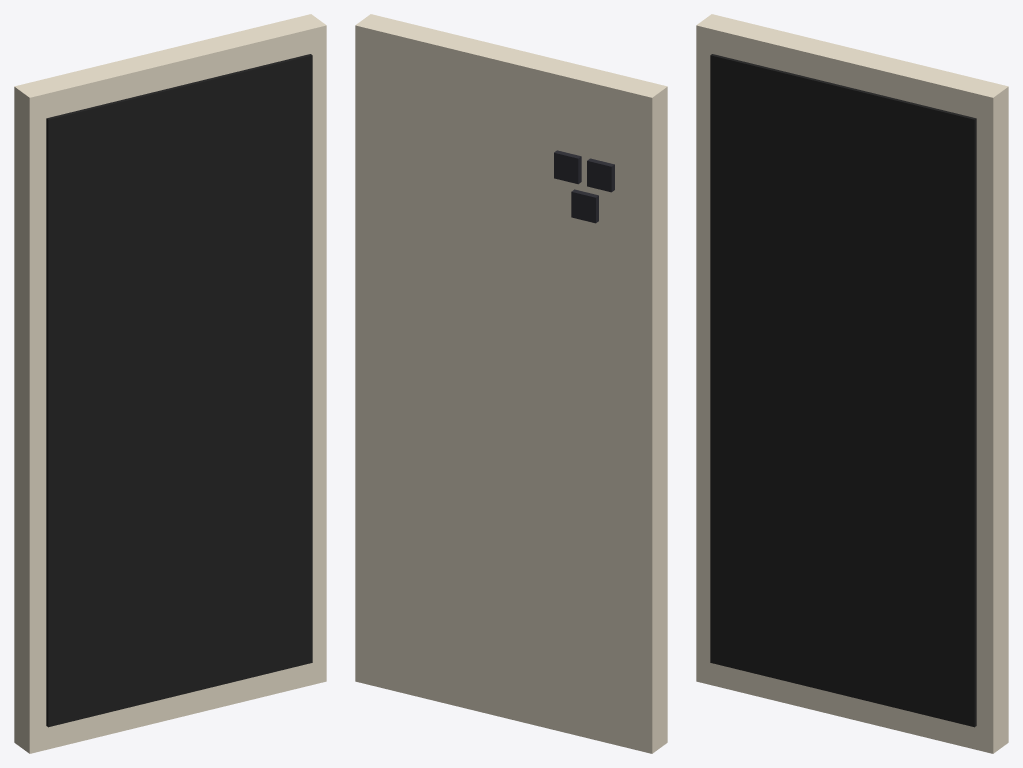
File: iphone-11-pro-max.glb
3 renders of one model, left to right at view 1: azimuth 30°, elevation 25°; view 2: azimuth 150°, elevation 25°; view 3: azimuth 330°, elevation 25°, orthographic.
Parts seen in each view (by area): view 1: tela, corpo; view 2: corpo, lente-0, lente-1, lente-2; view 3: tela, corpo.
Part boxes in pixels (left/top/right/bottom): tela: left=46, top=54, right=312, bottom=727; corpo: left=14, top=14, right=326, bottom=753; corpo: left=355, top=14, right=667, bottom=753; lente-0: left=587, top=158, right=614, bottom=192; lente-1: left=554, top=150, right=581, bottom=184; lente-2: left=571, top=189, right=598, bottom=223; tela: left=710, top=54, right=976, bottom=727; corpo: left=696, top=14, right=1008, bottom=753.
Bounding box in the file's own units: 0.8478 × 1.79 × 0.1038.
